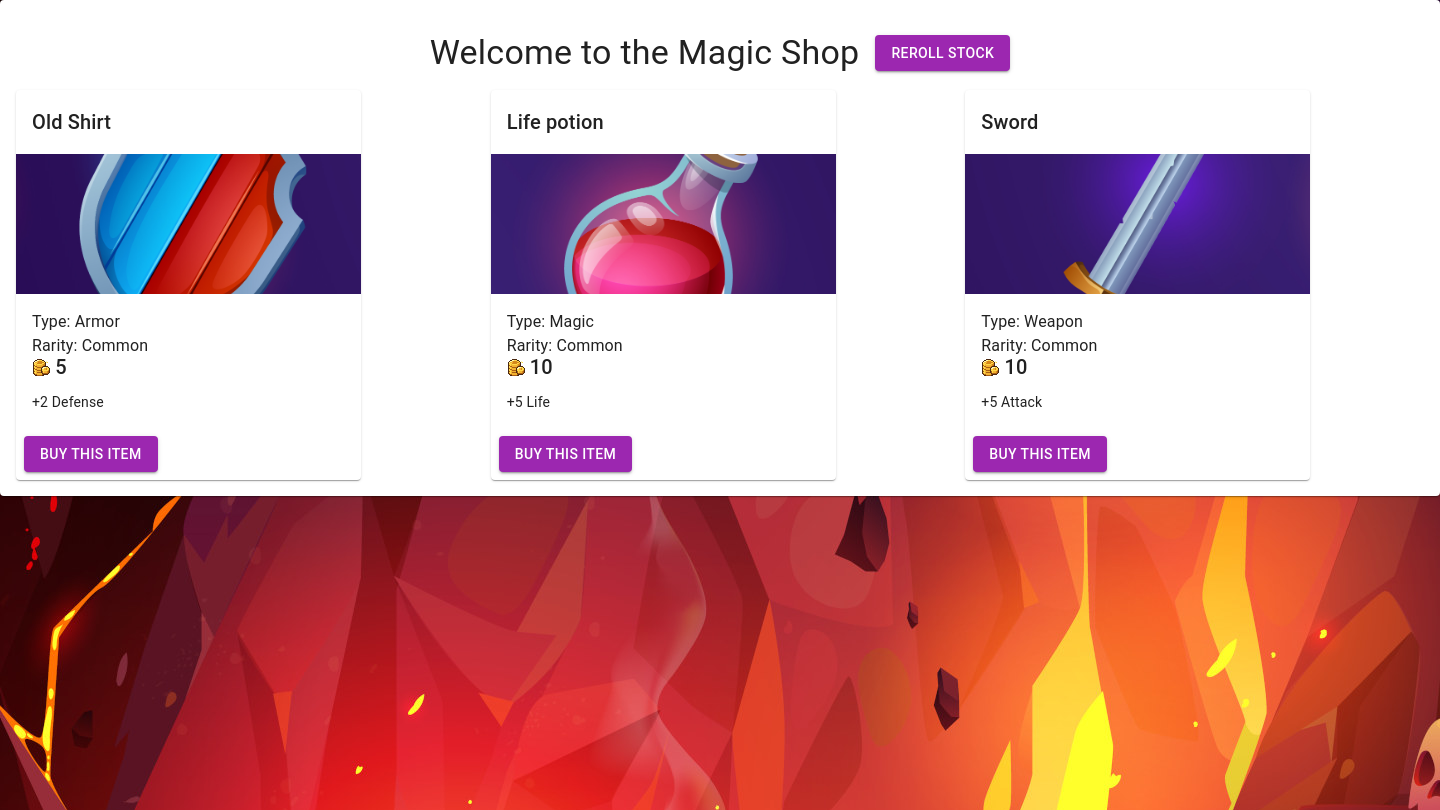
Test case: ShopCard › disables reroll after an item is bought
Click the button "Buy this item" below "Defense" at coordinates (91, 454), box [24,436,158,472]
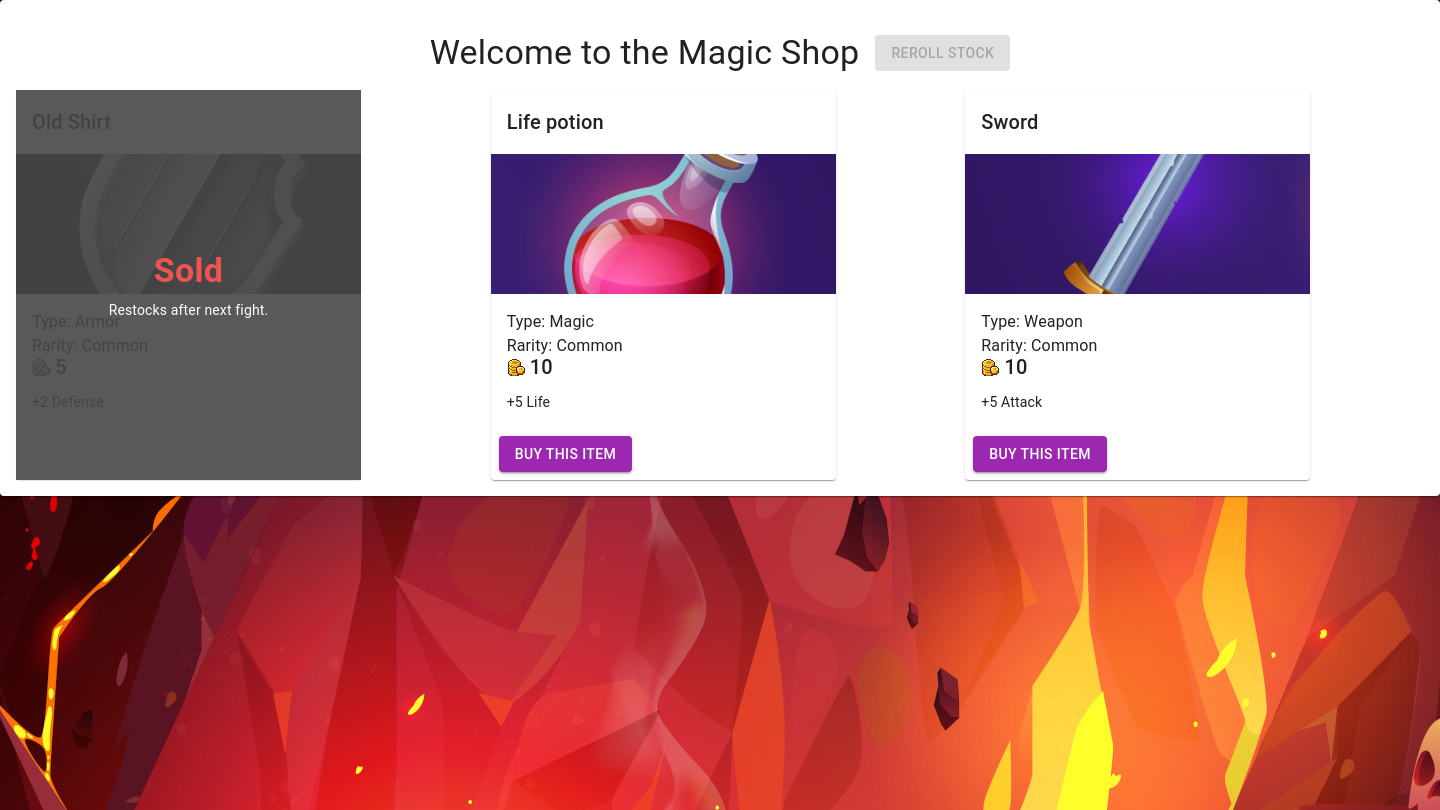
Check: the button "Reroll stock" is disabled, box [875,35,1010,71]
